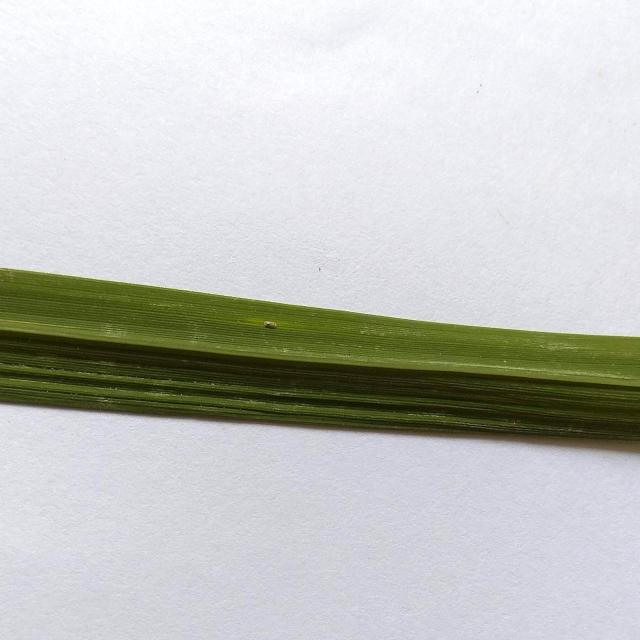healthy: (2, 222, 640, 504)
